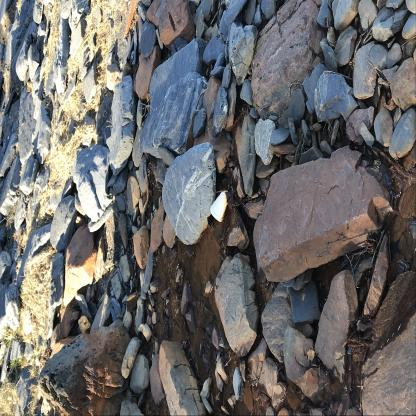trash: (143, 278, 171, 306)
